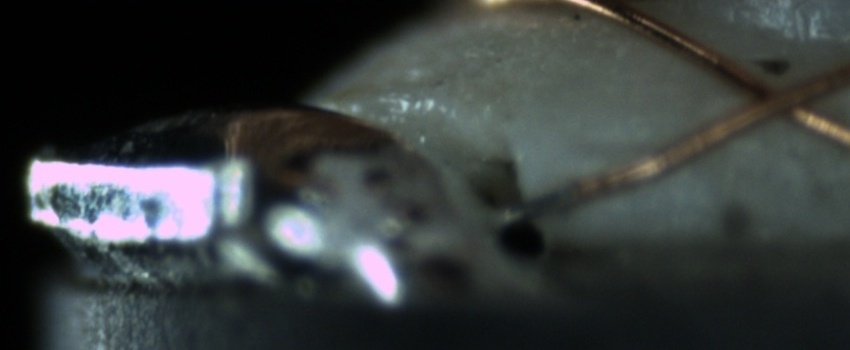CL: (714, 55, 841, 140)
DL: (545, 114, 675, 173)
TS: (500, 182, 576, 225)
TTCW: (496, 174, 586, 225)
